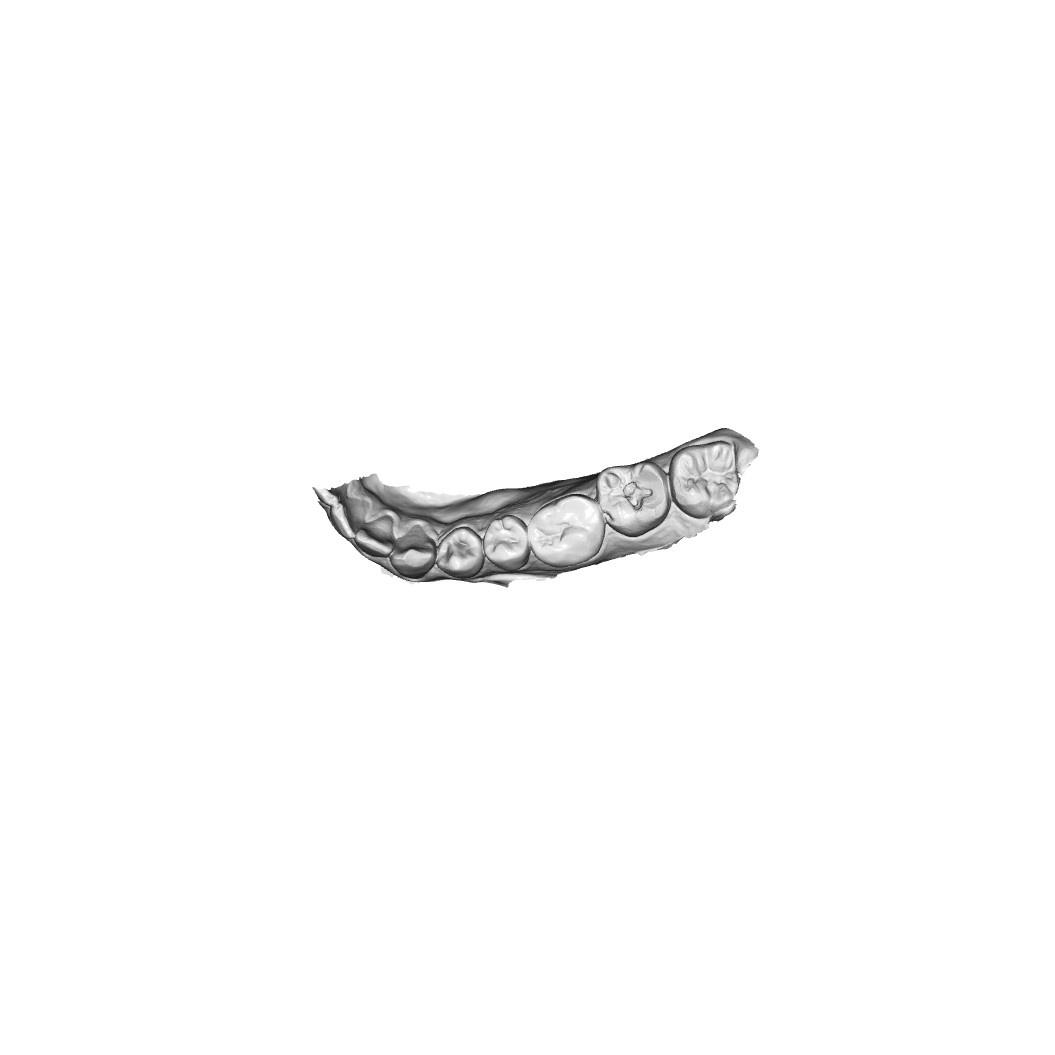canine: (392, 529, 438, 576)
incisor: (352, 510, 401, 561), (333, 496, 370, 538)
molar: (527, 494, 602, 570), (670, 441, 738, 513), (598, 465, 673, 530)
premolar: (484, 513, 535, 572), (438, 527, 487, 579)
